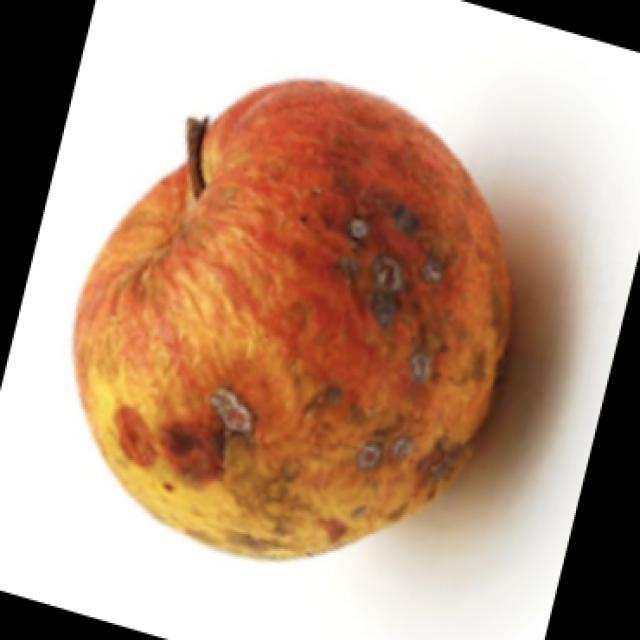Rotten: (96, 95, 506, 542)
